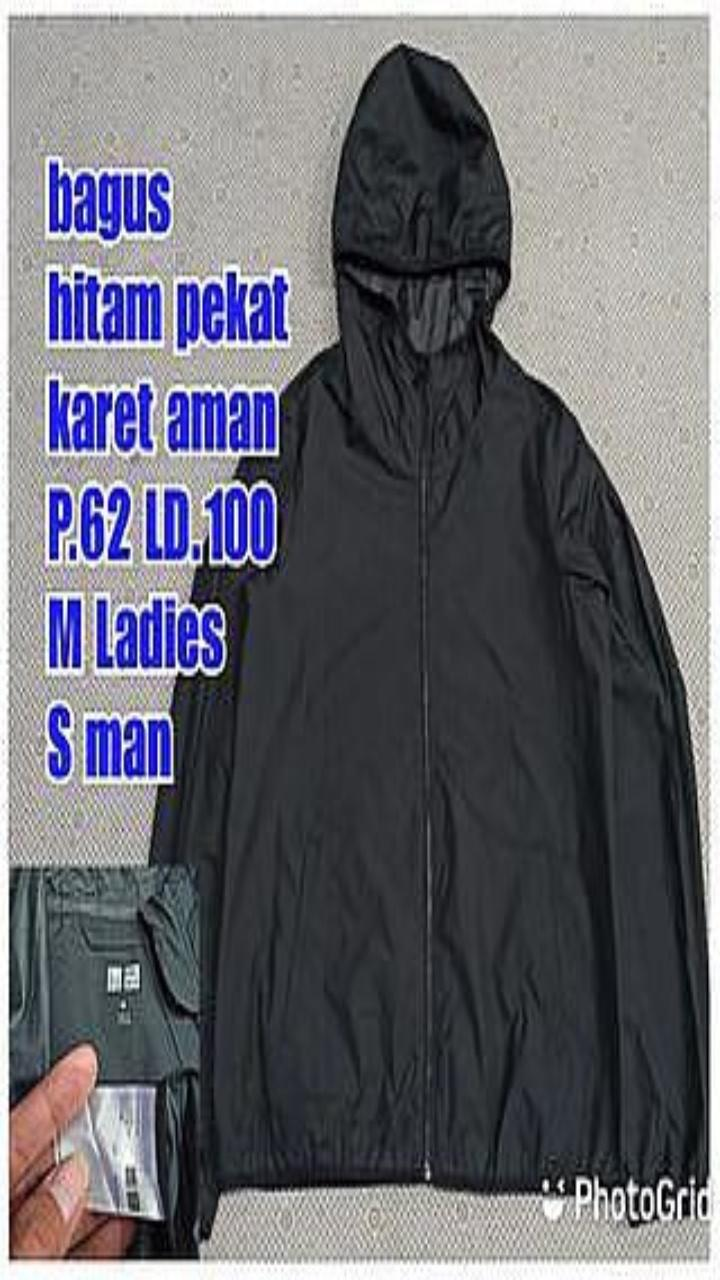Sports_Jacket: (152, 47, 707, 1190), (9, 867, 199, 1257)
